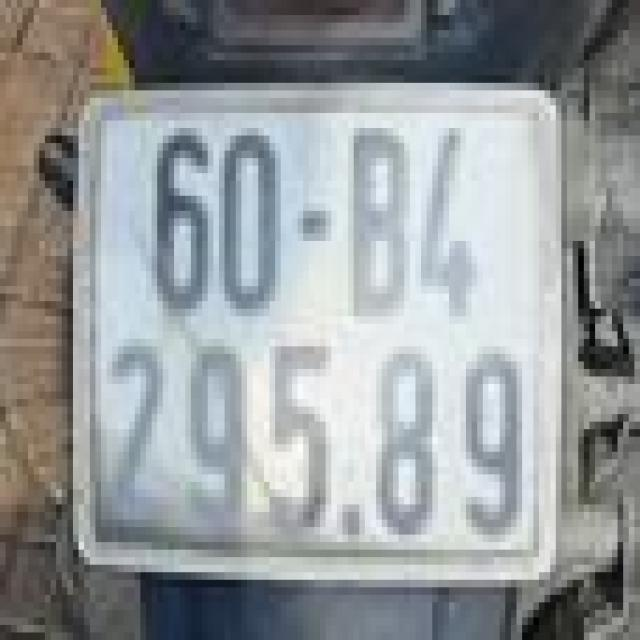0: (216, 113, 284, 324)
2: (104, 335, 177, 538)
4: (418, 120, 480, 324)
5: (267, 331, 334, 535)
6: (140, 120, 219, 316)
8: (368, 338, 446, 550)
9: (182, 316, 255, 550), (455, 335, 522, 561)
B: (340, 120, 418, 332)
